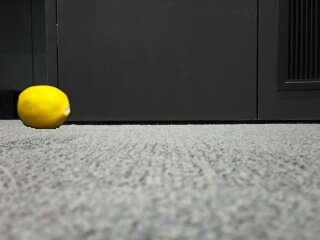lemon: (18, 85, 70, 128)
